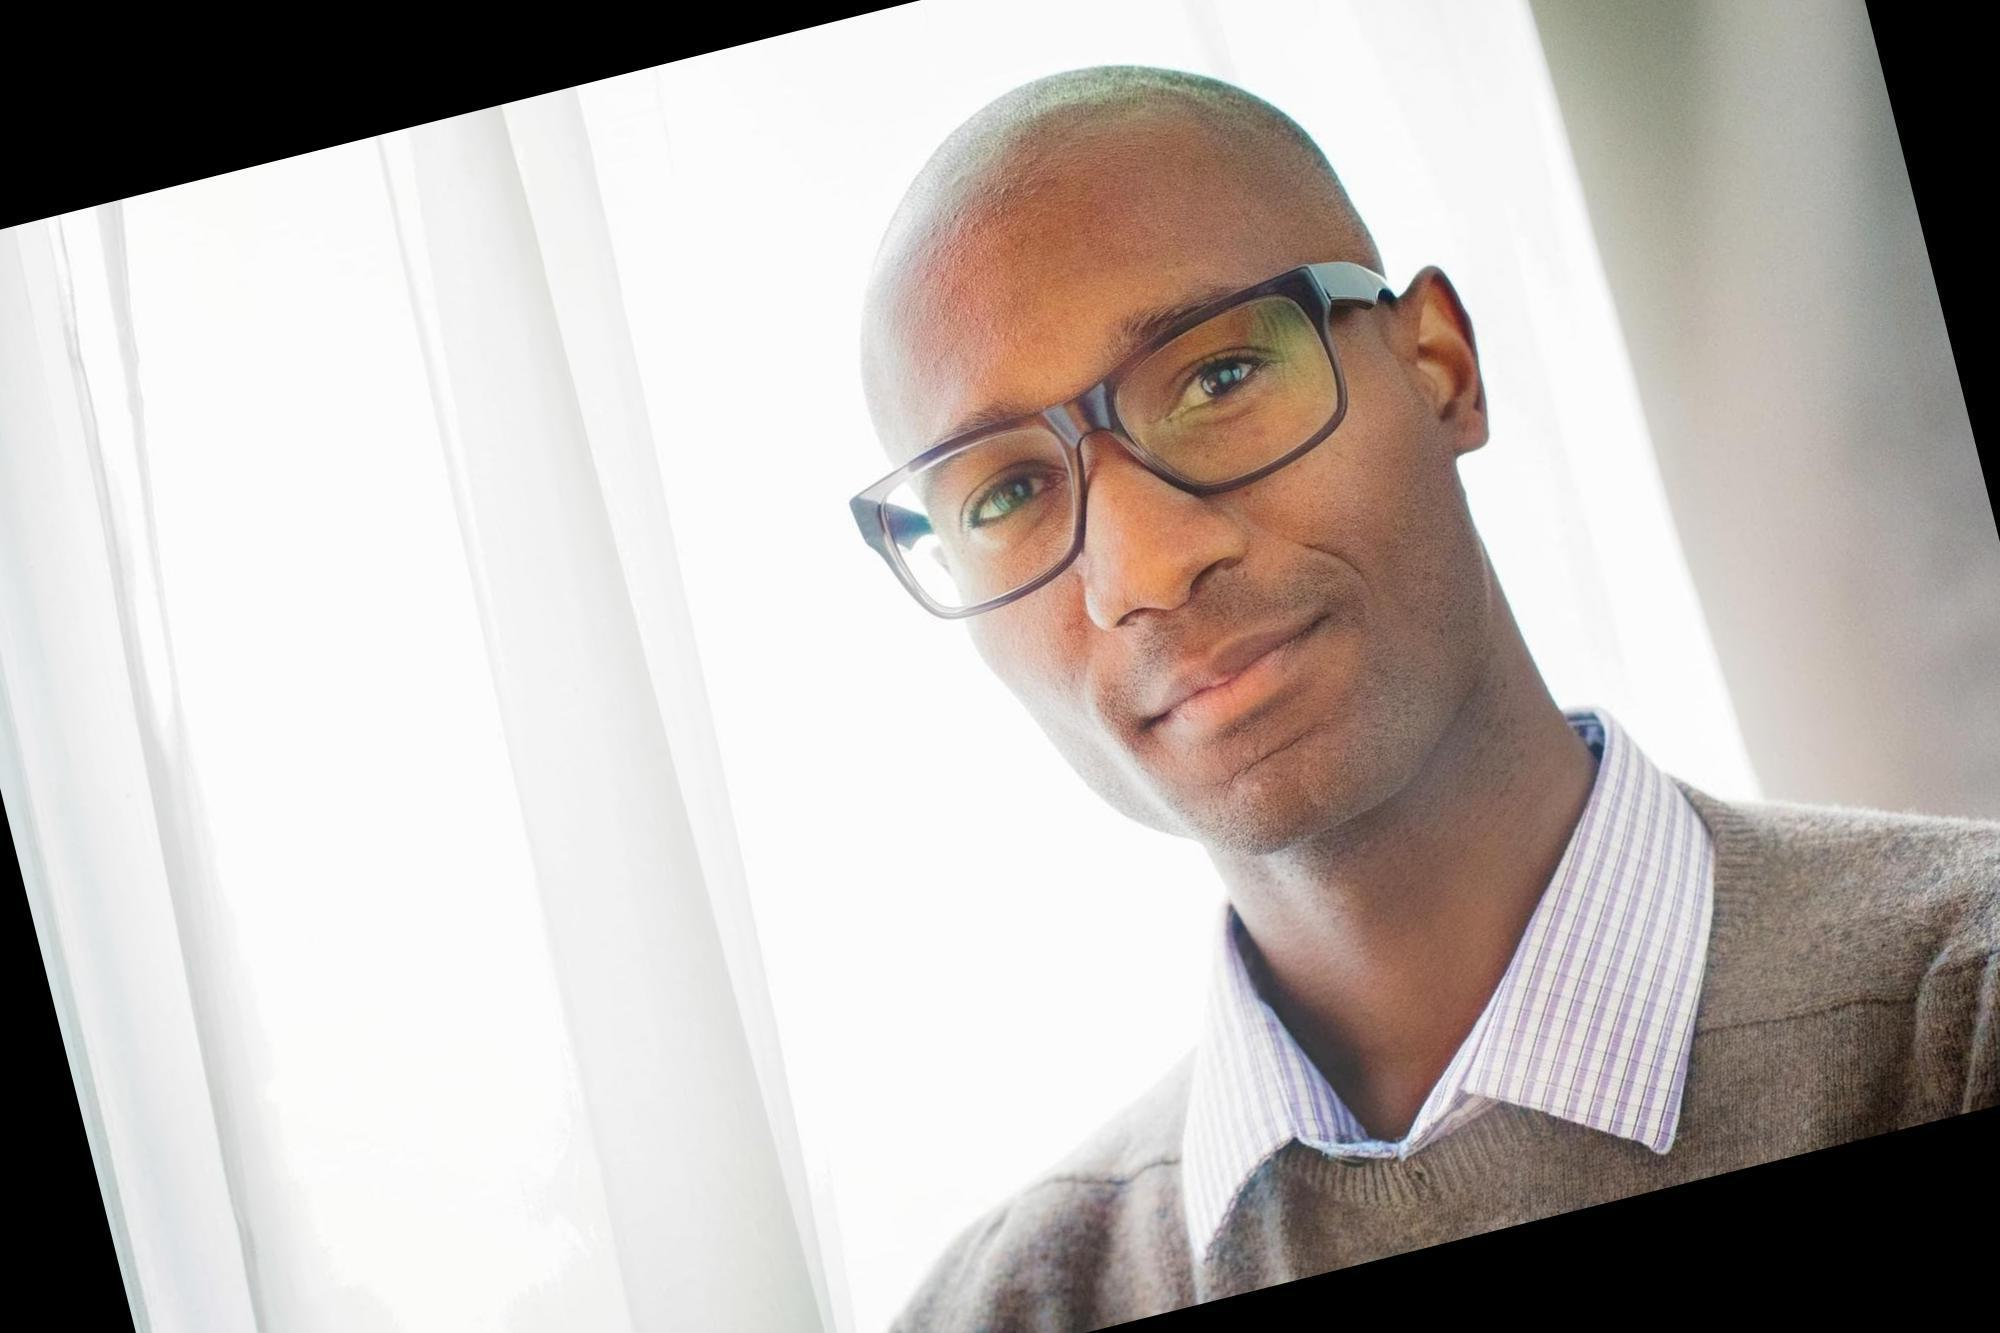Sober: (877, 263, 1441, 823)
